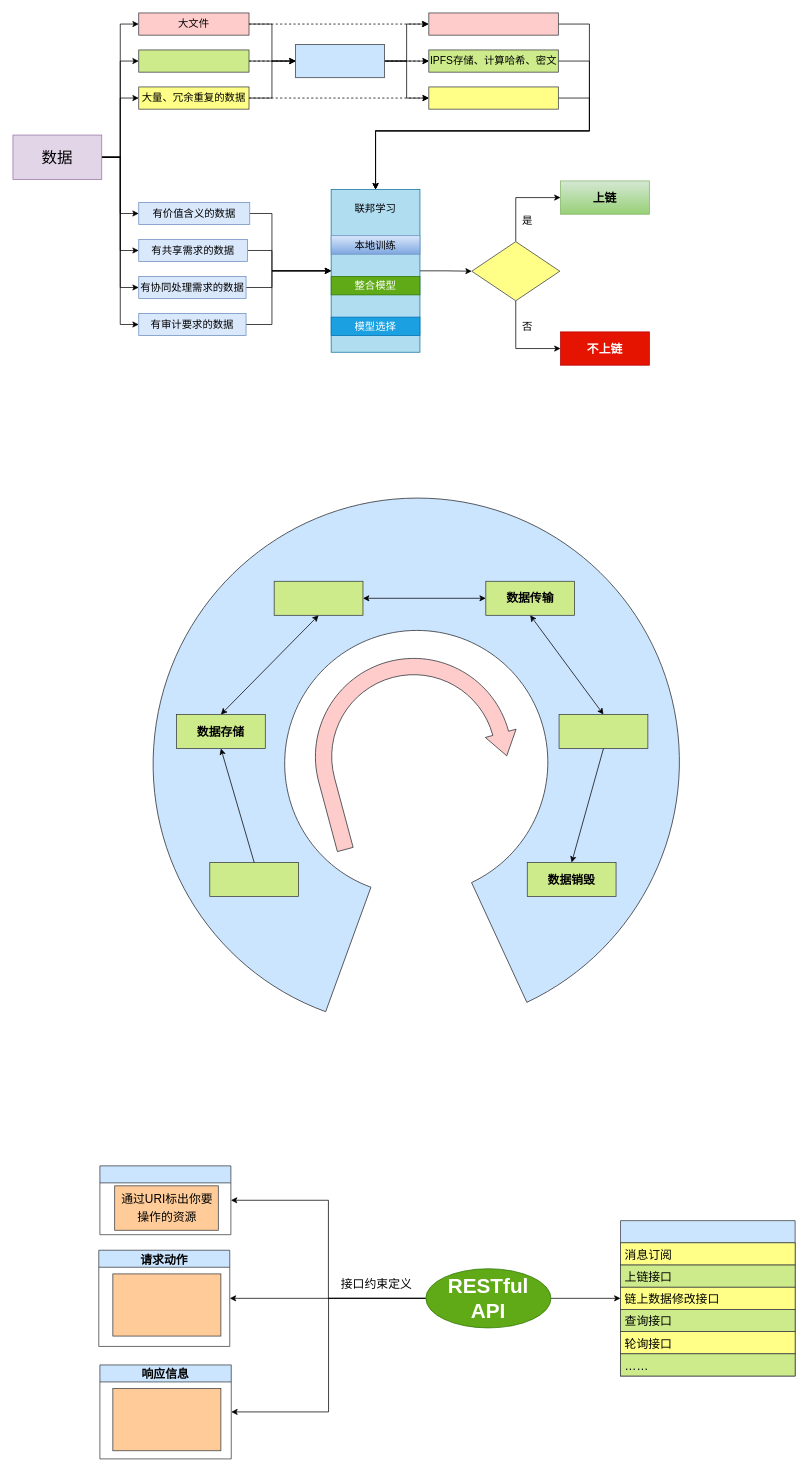
This 808x1472 diagram has some shape labels left out. The shapes that lost their labels are listed below. From the top down, each one's box as (x1, y1, x2, y2) in pixels, then its label:
(428, 12, 558, 35): IPFS存储、计算哈希
(138, 49, 249, 72): 机密、敏感数据
(295, 44, 384, 78): 不直接上链 进行处理
(428, 86, 558, 109): IPFS存储、计算哈希、KSI
(471, 241, 560, 301): 合规
(273, 581, 363, 615): 数据处理
(293, 634, 535, 852): 链上数据全生命周期
(558, 714, 648, 749): 数据交换
(209, 862, 299, 897): 数据采集
(99, 1165, 231, 1235): 资源识别
(112, 1273, 221, 1336): 通过请求动作 （ http method ） 标识要执行的操作
(620, 1220, 795, 1376): 上链数据的管理接口
(112, 1388, 221, 1451): 通过返回的状态码 来表示这次请求的 执行结果
